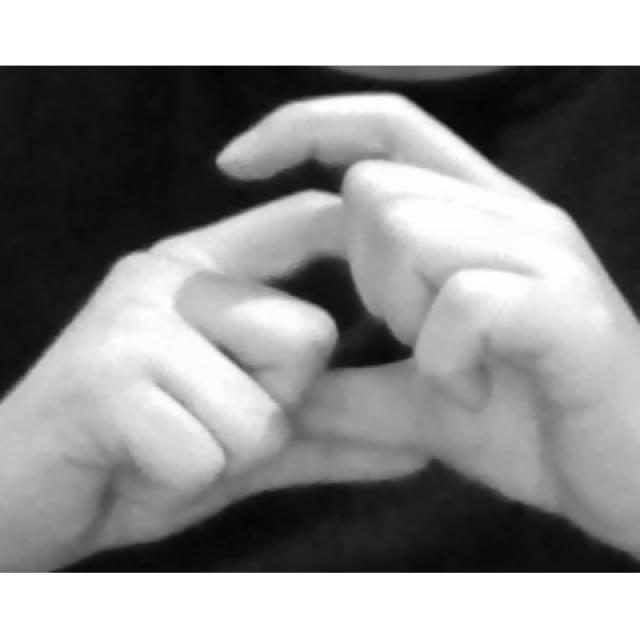G-: (1, 88, 639, 573)
